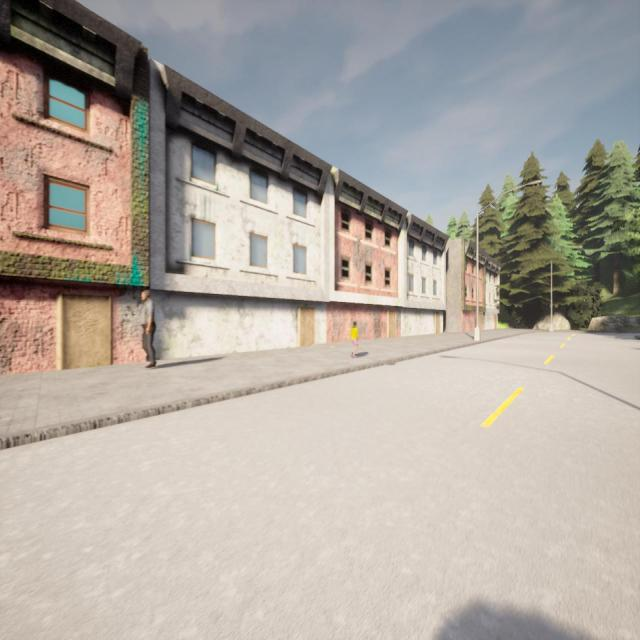Pedestrian: (141, 290, 155, 368), (349, 322, 358, 358)
